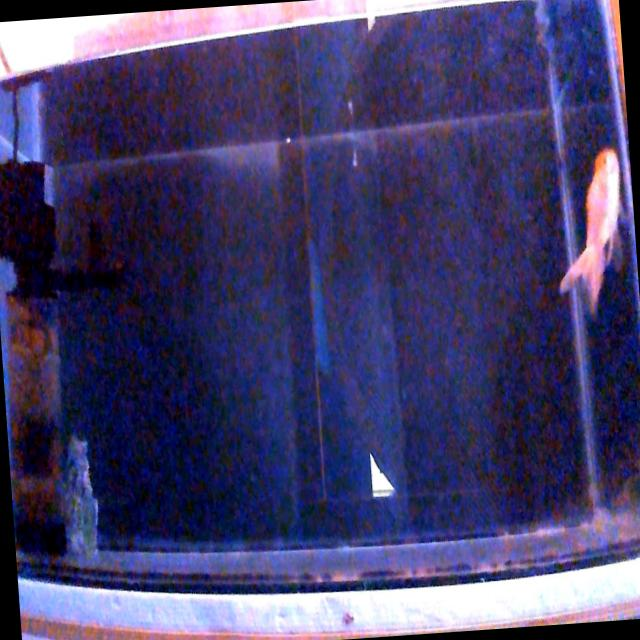fish: (546, 148, 628, 320)
